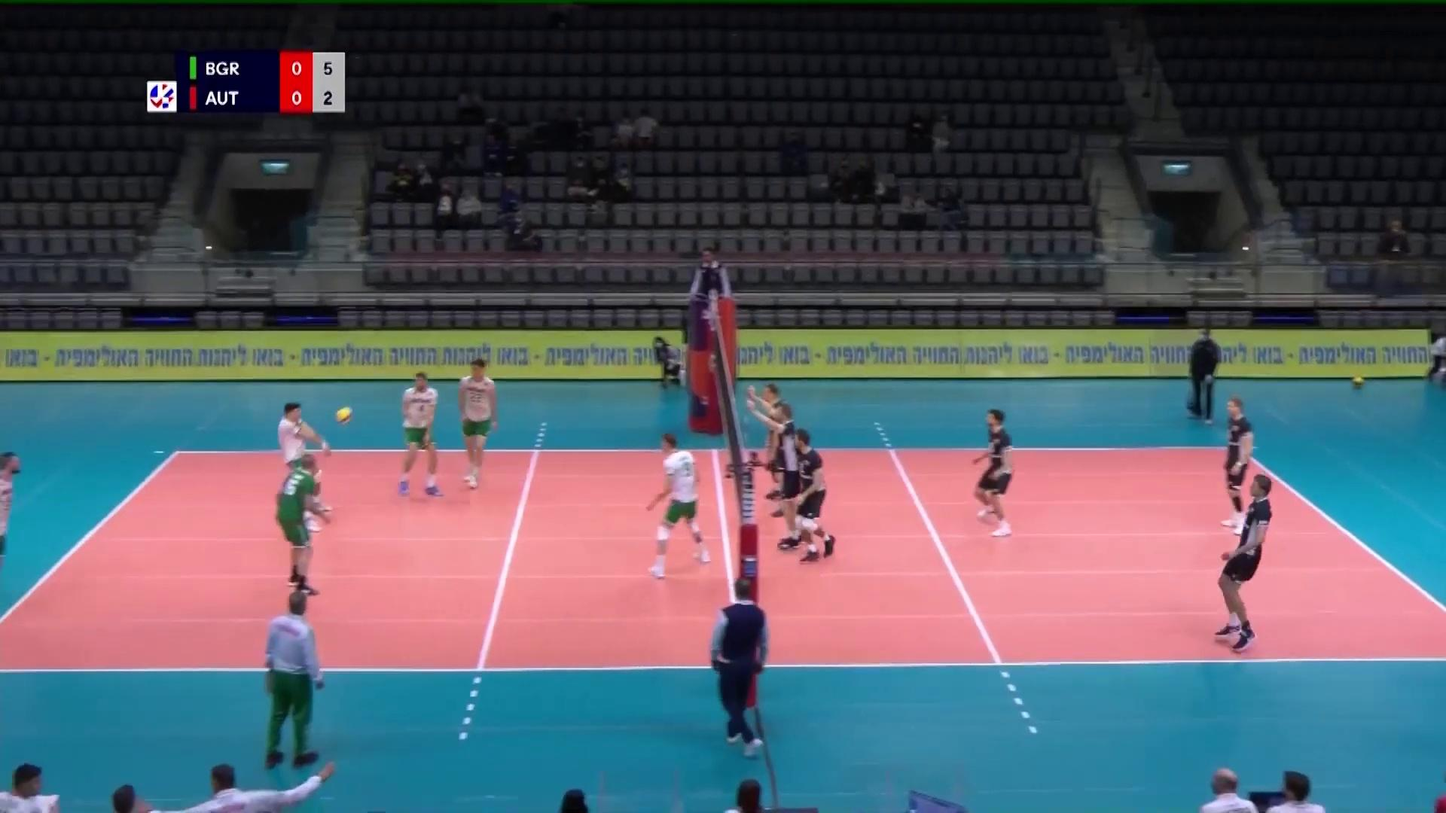ball: (336, 406, 352, 424)
